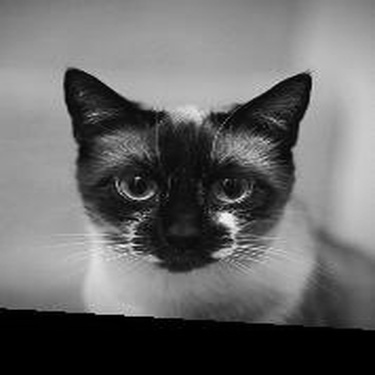cat: (59, 60, 369, 317)
